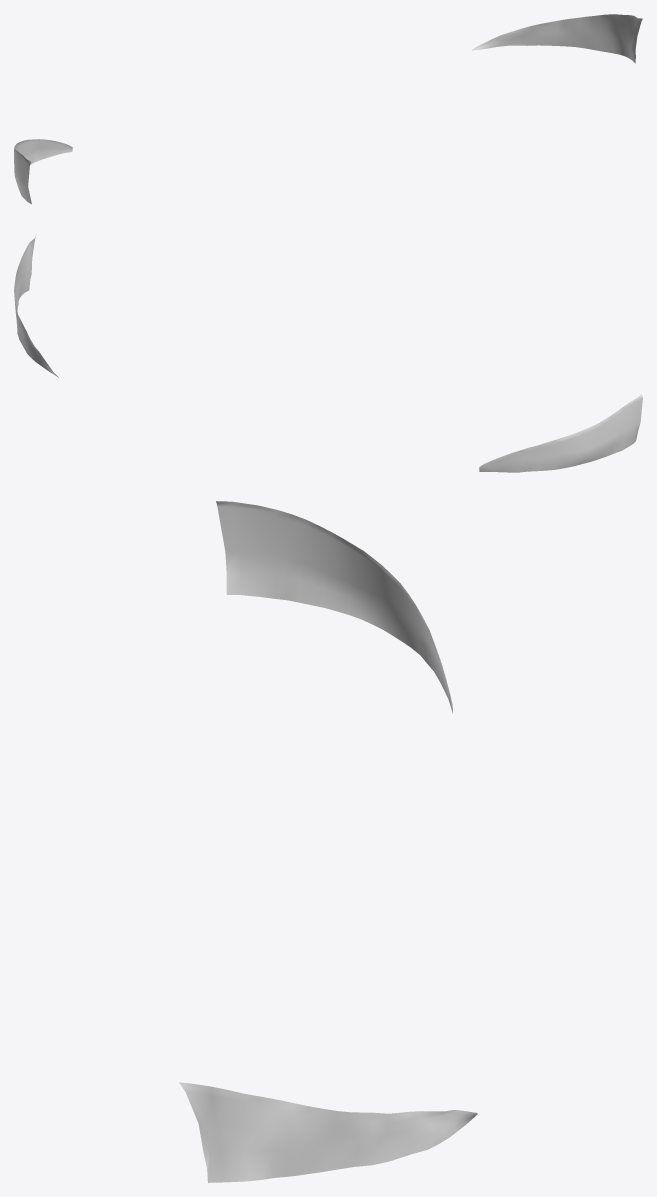
The model's file is Pants_Flic_DONW_BACK.glb.
3 renders of one model, top to bottom at view 1: azimuth 30°, elevation 25°; view 2: azimuth 150°, elevation 25°; view 3: azimuth 270°, elevation 25°, orthographic. The views are drawn at different scales.
Parts seen in each view (by area): view 1: Pants_Flic_DONW_BACK.001; view 2: Pants_Flic_DONW_BACK.001; view 3: Pants_Flic_DONW_BACK.001.
Boxes of the visible parts, box(x1,y1,x2,y2) form: Pants_Flic_DONW_BACK.001: box(14, 14, 642, 204); Pants_Flic_DONW_BACK.001: box(14, 236, 642, 472); Pants_Flic_DONW_BACK.001: box(179, 501, 477, 1182).
Size of the model in its own units: 0.7555 by 0.0756 by 0.1622.
Materials: 2 (2 with a texture image).
